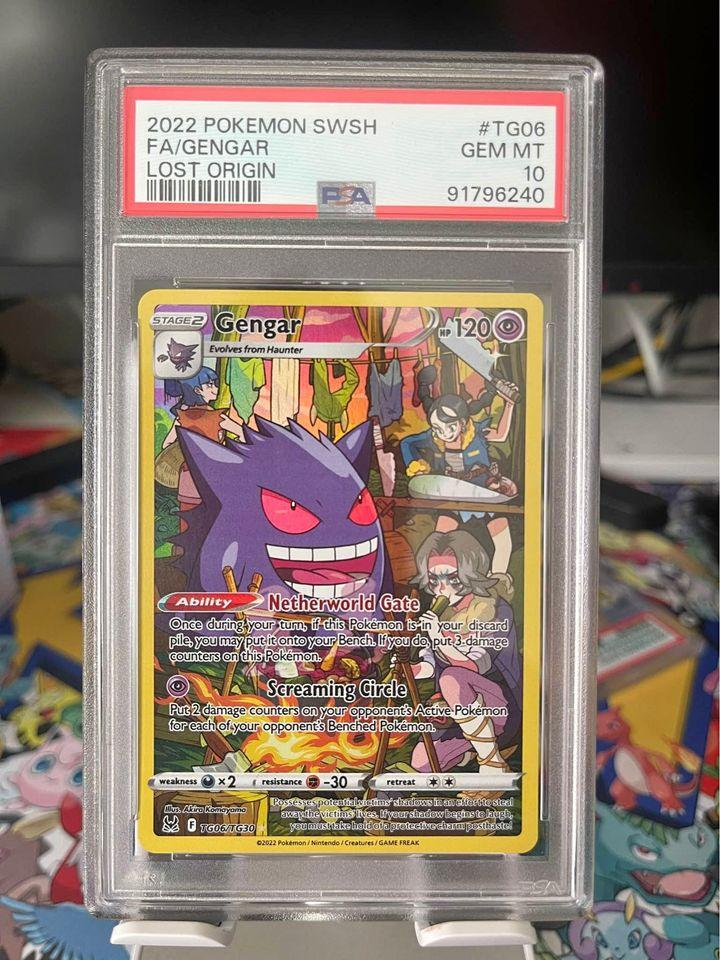card: (132, 288, 550, 858)
